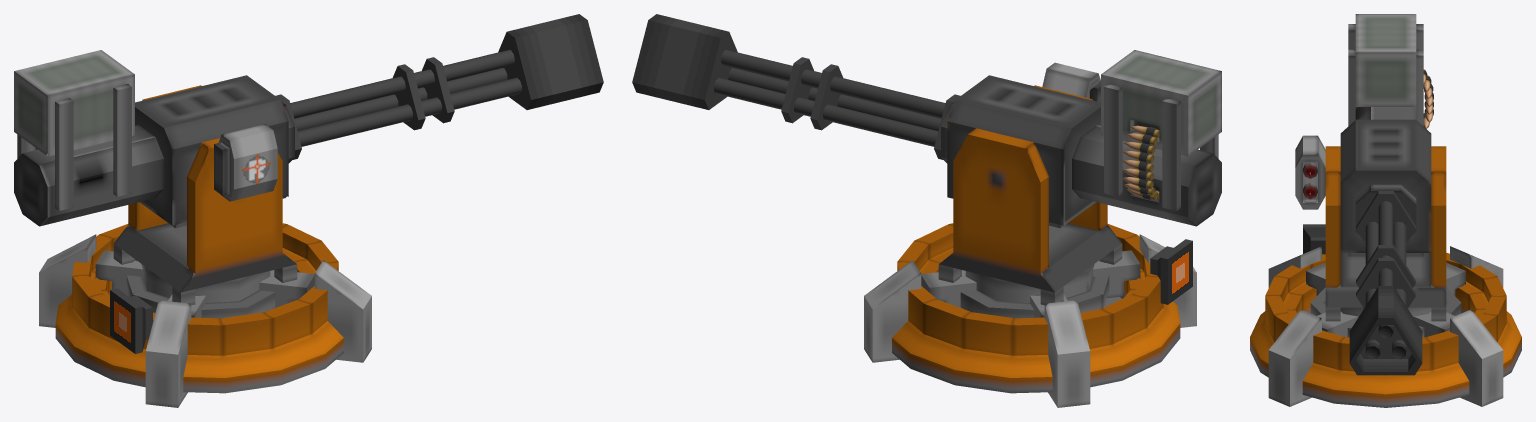
Rendered from turret_chekhov.obj.
3 views of the same model, side by side, from view 1: azimuth 30°, elevation 25°; view 2: azimuth 150°, elevation 25°; view 3: azimuth 270°, elevation 25° (orthographic). The views are drawn at different scales.
Visible parts, largest first — view 1: Body, Base, Carriage, Barrels, Connectors; view 2: Body, Base, Carriage, Barrels, Connectors; view 3: Base, Body, Carriage, Barrels, Connectors.
Part boxes in pixels (bbox=[...]): Body: bbox=[14, 50, 294, 228]; Base: bbox=[39, 223, 371, 407]; Carriage: bbox=[95, 85, 314, 318]; Barrels: bbox=[275, 14, 603, 159]; Connectors: bbox=[110, 288, 152, 353]; Body: bbox=[941, 50, 1221, 228]; Base: bbox=[864, 223, 1196, 407]; Carriage: bbox=[921, 85, 1140, 318]; Barrels: bbox=[632, 14, 960, 159]; Connectors: bbox=[1150, 239, 1192, 304]; Base: bbox=[1250, 246, 1521, 407]; Body: bbox=[1295, 14, 1433, 256]; Carriage: bbox=[1306, 146, 1465, 337]; Barrels: bbox=[1349, 191, 1422, 375]; Connectors: bbox=[1303, 224, 1325, 254].
Size of the model in its own units: 4.75 by 2.44 by 2.25.
